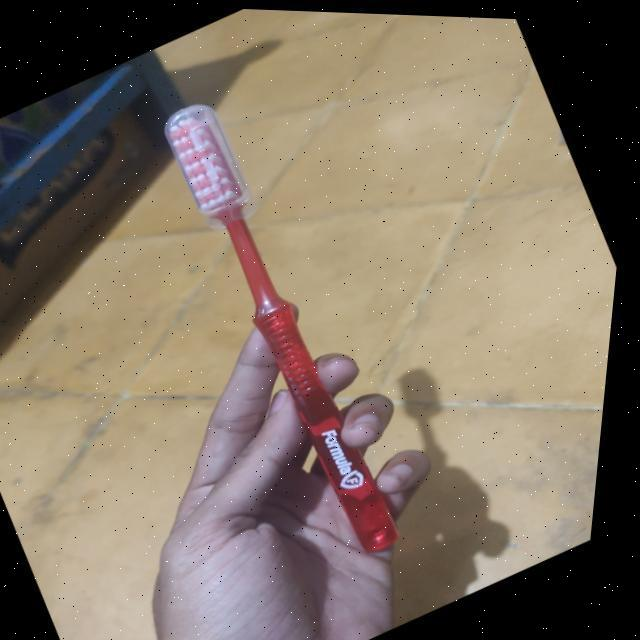toothbrush: (92, 55, 486, 592)
